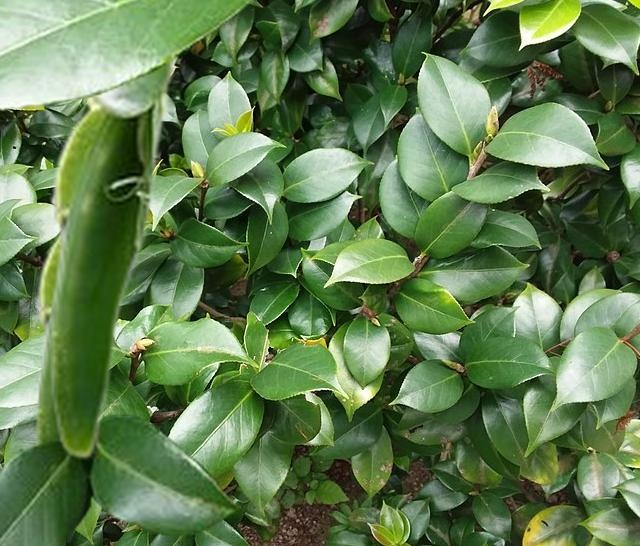pea: (48, 58, 178, 459), (34, 195, 127, 443)
